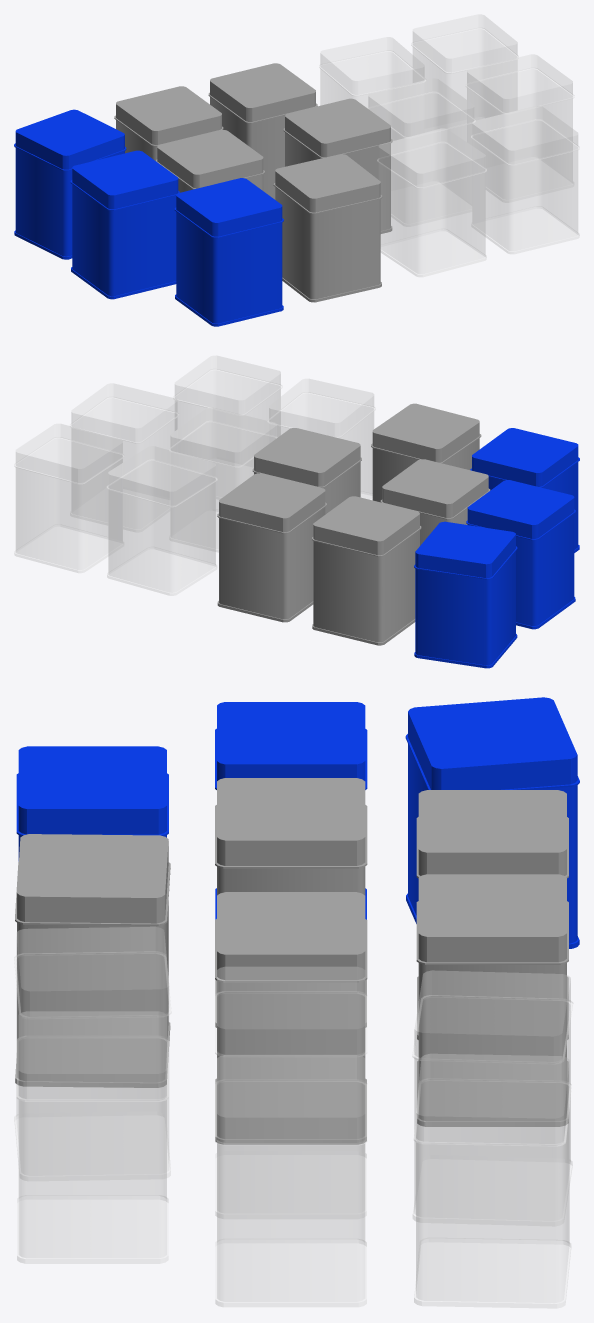
Rendered from Teabox_5oq0ki_Pack01.fbx.
3 views of the same model, one above another, from view 1: azimuth 30°, elevation 25°; view 2: azimuth 150°, elevation 25°; view 3: azimuth 270°, elevation 25° (orthographic). The views are drawn at different scales.
Visible parts, largest first — view 1: Teabox_5oq0ki_Pack01; view 2: Teabox_5oq0ki_Pack01; view 3: Teabox_5oq0ki_Pack01.
Boxes of the visible parts, x1,y1,x2,y2 form: Teabox_5oq0ki_Pack01: (14,14,579,326); Teabox_5oq0ki_Pack01: (14,355,579,668); Teabox_5oq0ki_Pack01: (14,697,579,1308).
Bounding box in the file's own units: 47.96 × 10 × 27.1.
